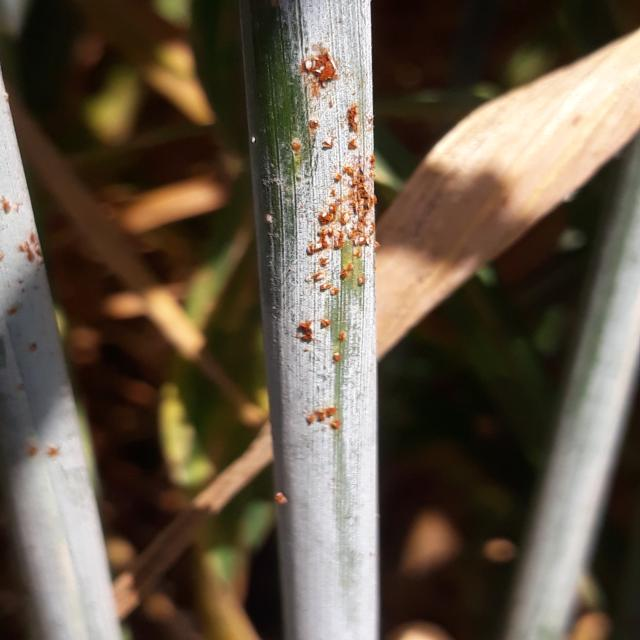black_stem_rust: (192, 0, 407, 640), (0, 66, 171, 640)
